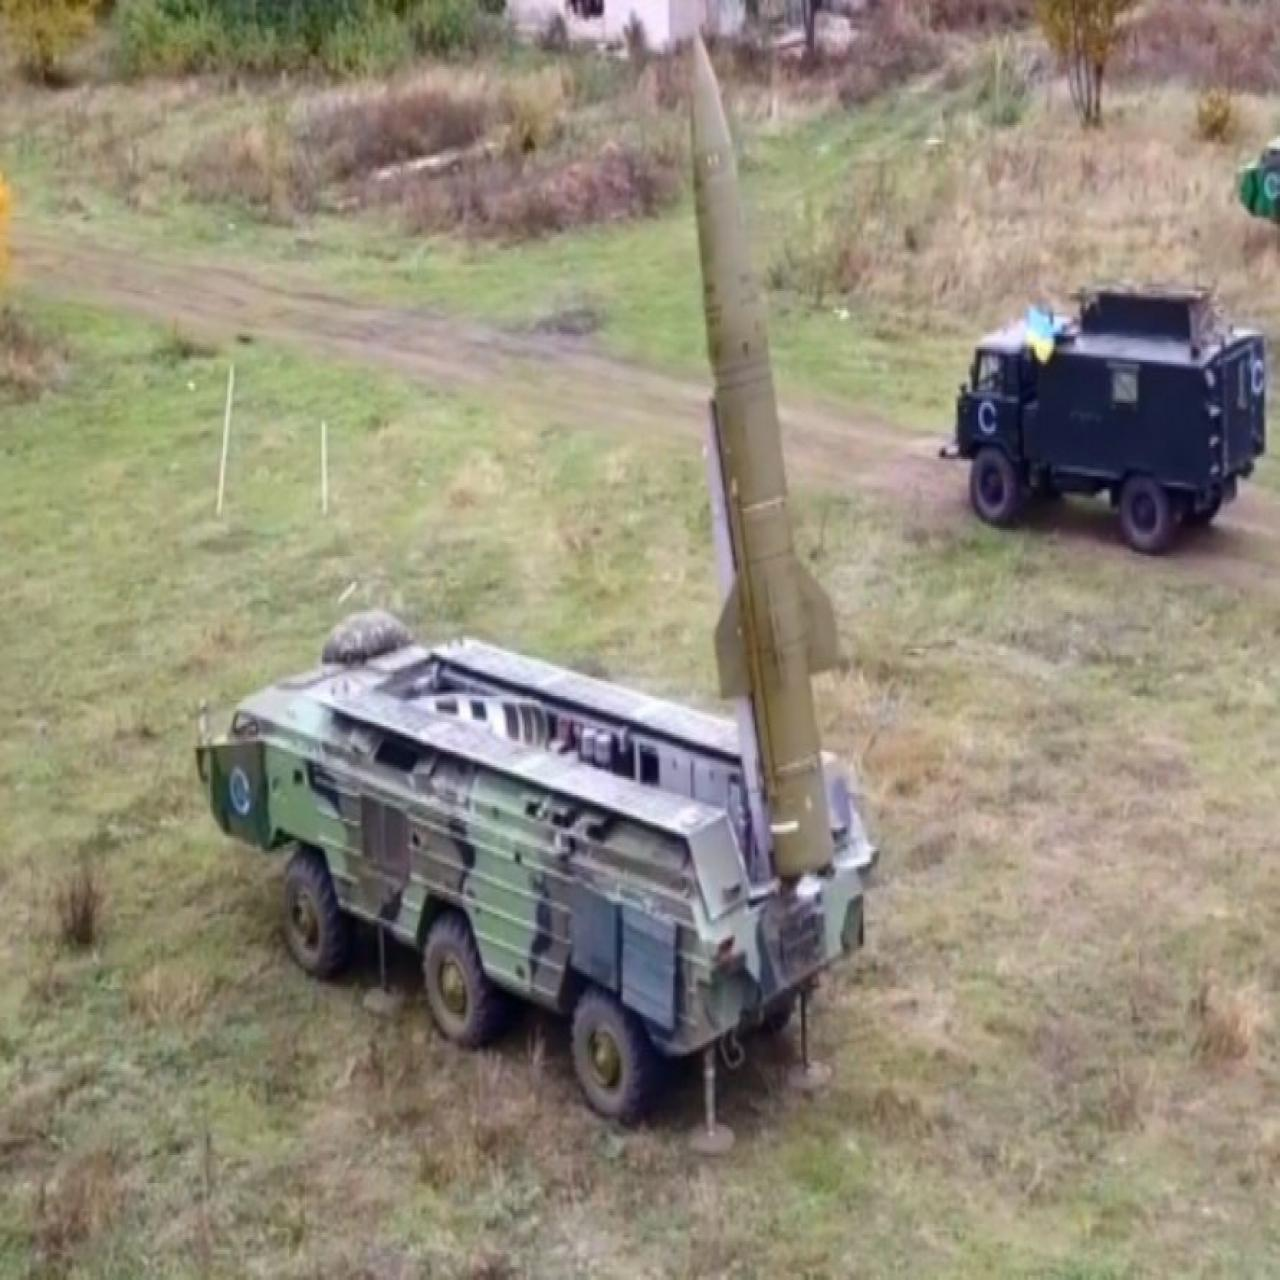MIL_Veh: (205, 38, 873, 1124)
